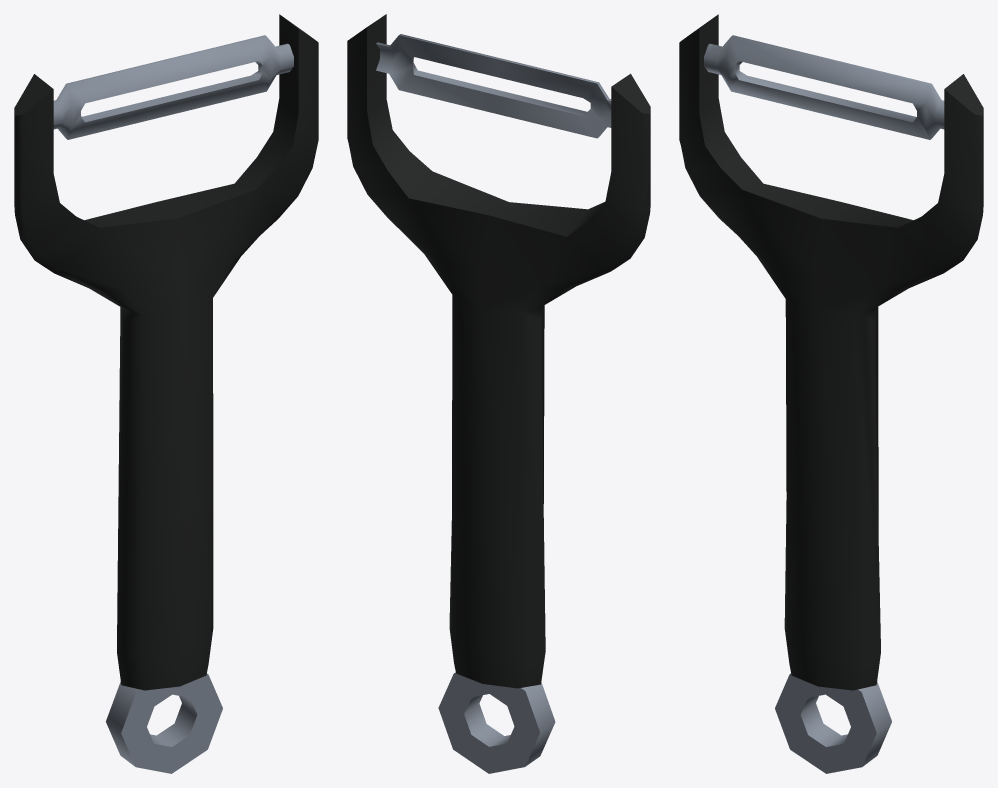
File: scene_Cz6u5obAAn.glb
The picture shows the model from 3 angles, left to right: view 1: azimuth 30°, elevation 25°; view 2: azimuth 150°, elevation 25°; view 3: azimuth 330°, elevation 25°; orthographic projection.
Visible parts, largest first — view 1: cutensils_peeler_Cylinder.026; view 2: cutensils_peeler_Cylinder.026; view 3: cutensils_peeler_Cylinder.026.
Boxes of the visible parts, <box> form: cutensils_peeler_Cylinder.026: <box>14,14,318,773</box>; cutensils_peeler_Cylinder.026: <box>347,14,650,773</box>; cutensils_peeler_Cylinder.026: <box>679,14,983,773</box>.
Size of the model in its own units: 1.98 by 4.49 by 0.3904.
Materials: 1 (1 with a texture image).
